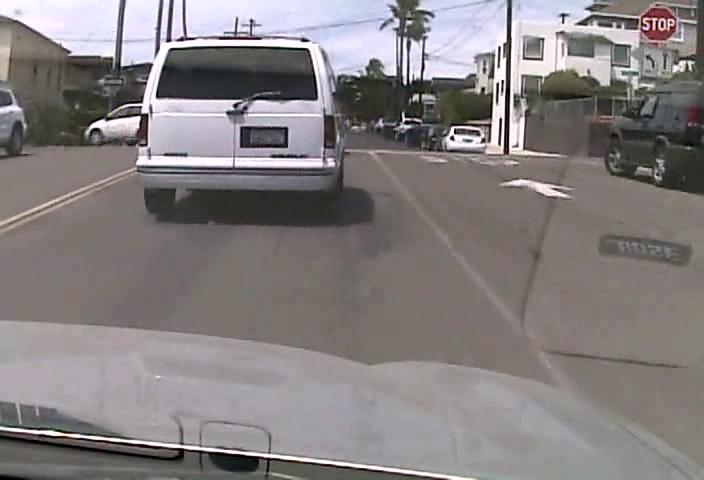stop: (638, 5, 678, 43)
